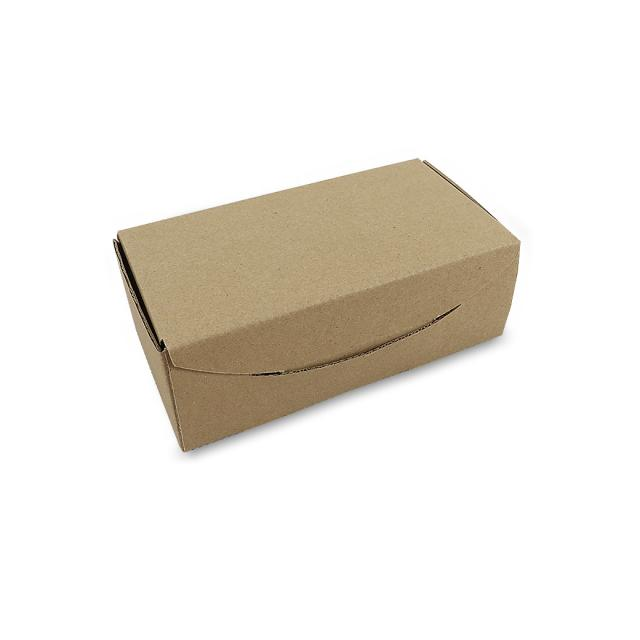box: (87, 148, 570, 454)
